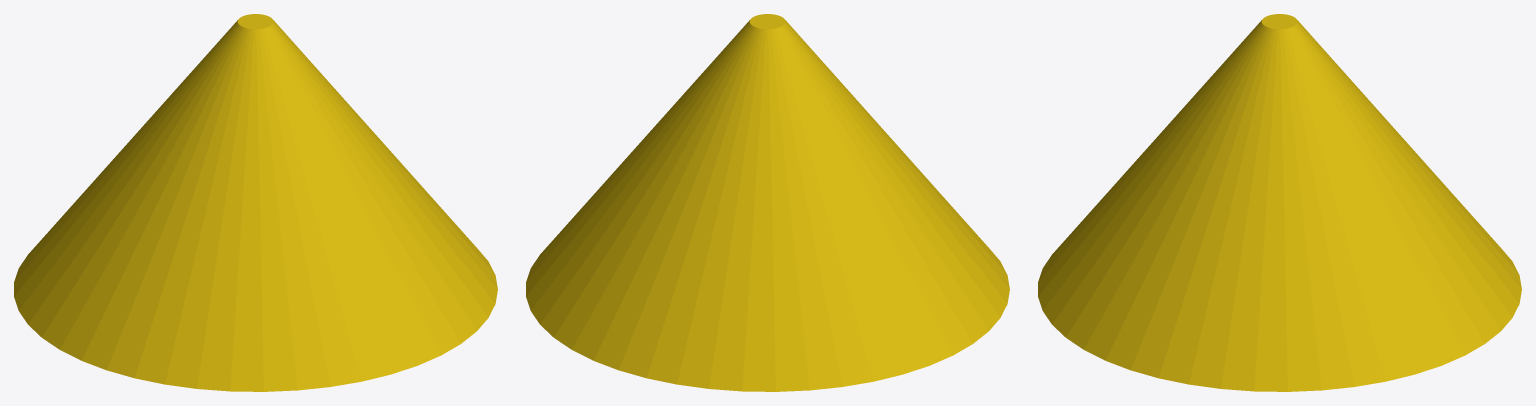
The model's file is SunRay.glb.
The picture shows the model from 3 angles, left to right: view 1: azimuth 30°, elevation 25°; view 2: azimuth 150°, elevation 25°; view 3: azimuth 270°, elevation 25°; orthographic projection.
Visible parts, largest first — view 1: SunRay; view 2: SunRay; view 3: SunRay.
Part boxes in pixels (<box>): SunRay: <box>14,14,497,391</box>; SunRay: <box>526,14,1009,391</box>; SunRay: <box>1038,14,1521,391</box>.
Bounding box in the file's own units: 0.7687 × 0.4695 × 0.7682.
